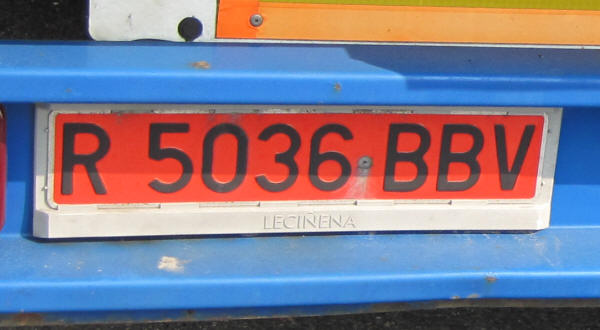license_plate: (46, 108, 551, 207)
